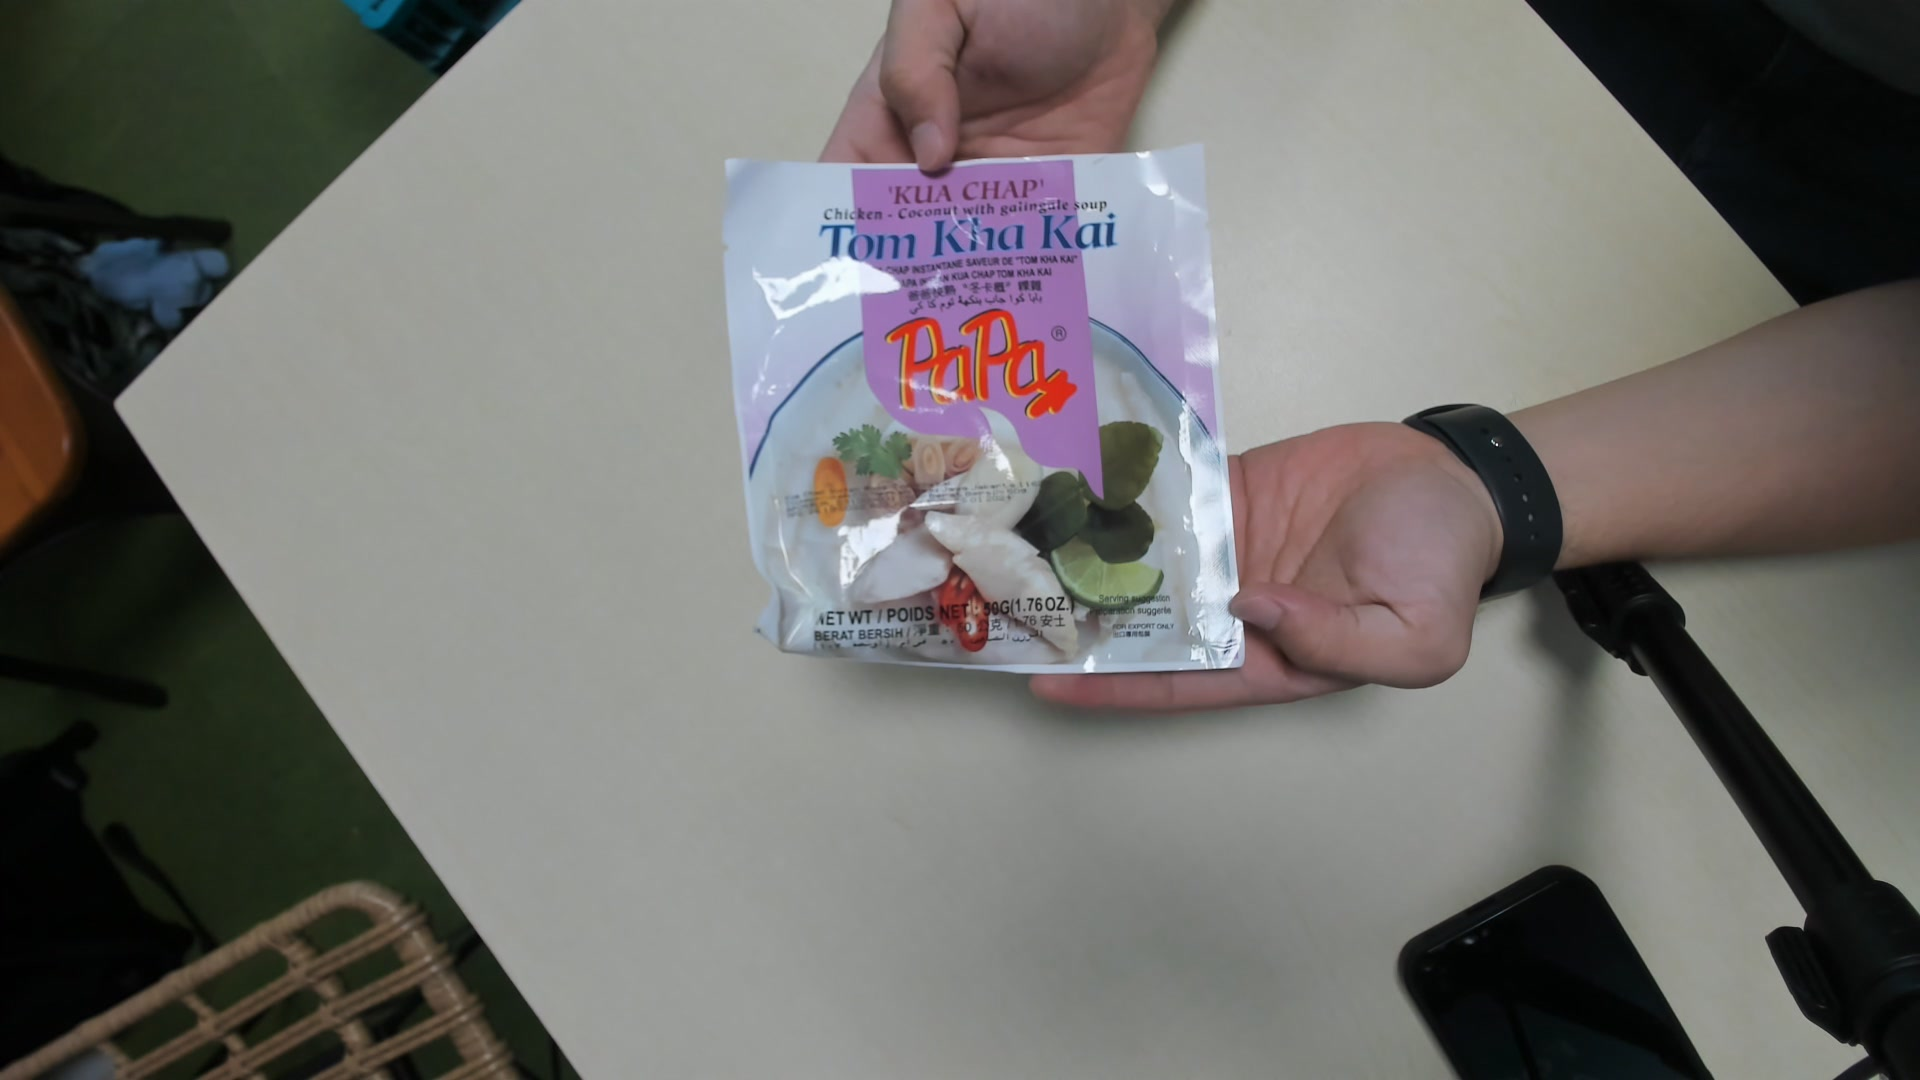OtherSauceDressing_0-99g_NonHalal_NonHealthy: (728, 150, 1242, 687)
